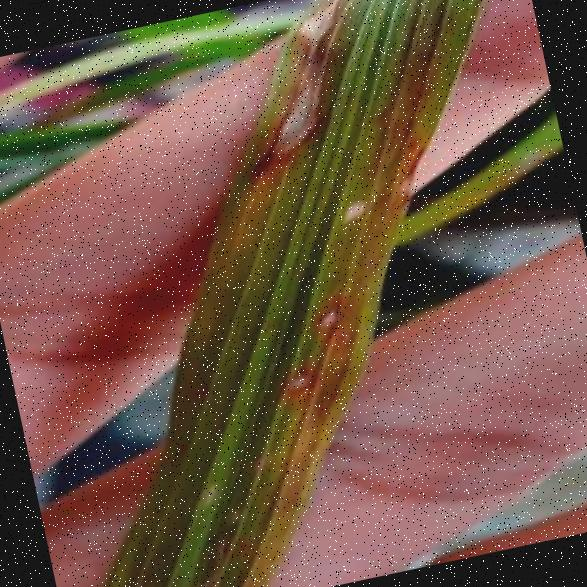Leaf_smut: (214, 55, 354, 172), (257, 0, 378, 83), (251, 352, 336, 417), (297, 289, 375, 353), (326, 178, 380, 232)
